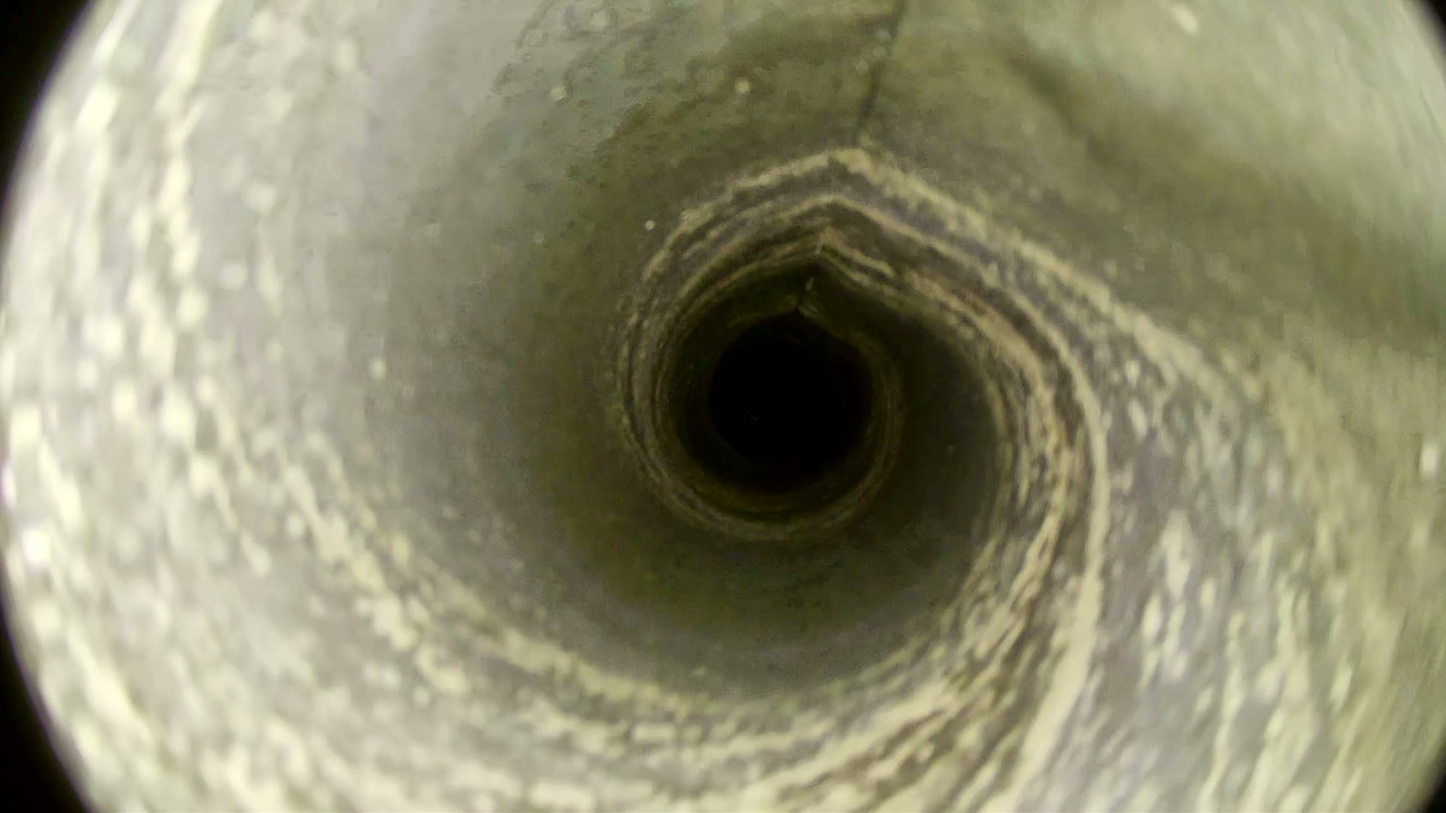hole: (713, 345, 839, 461)
